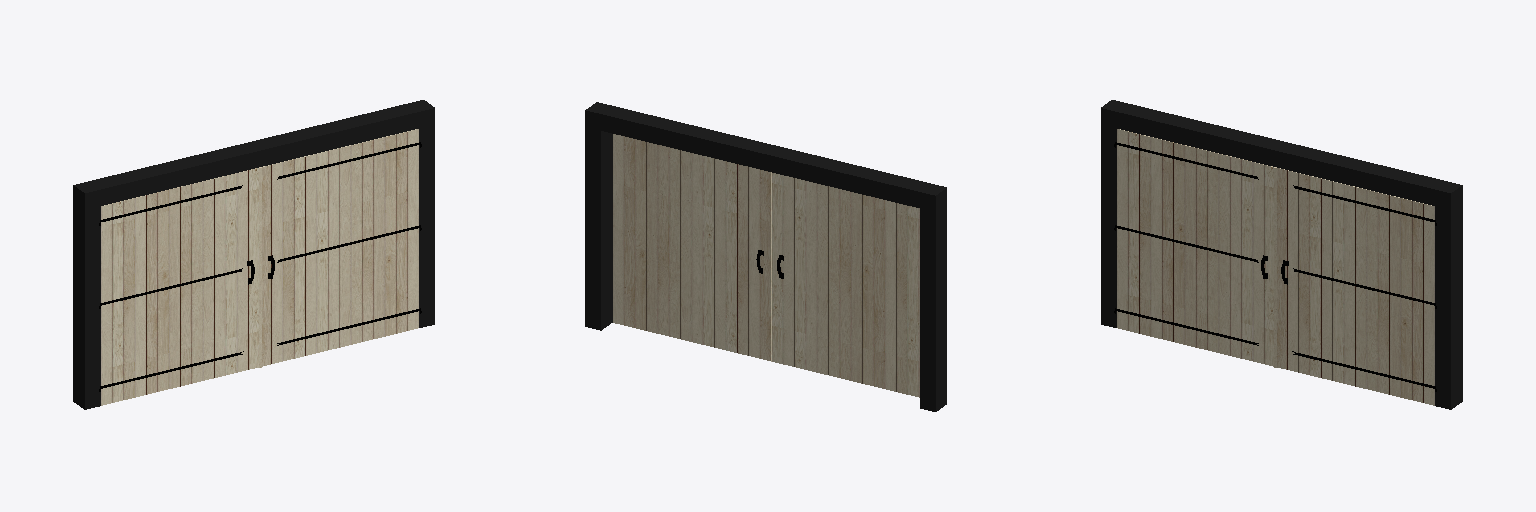
3 views of the same model, side by side, from view 1: azimuth 30°, elevation 25°; view 2: azimuth 150°, elevation 25°; view 3: azimuth 330°, elevation 25° (orthographic).
Visible parts, largest first — view 1: sweethome3d_opening_on_hinge_1_right-door_Cube.008, sweethome3d_opening_on_hinge_2_left-door_Cube.001, frame_Cube, sweethome3d_opening_on_hinge_1_large_hinges_Cube.009, sweethome3d_opening_on_hinge_2_large-hinges_Cube.007; view 2: sweethome3d_opening_on_hinge_1_right-door_Cube.008, sweethome3d_opening_on_hinge_2_left-door_Cube.001, frame_Cube; view 3: sweethome3d_opening_on_hinge_1_right-door_Cube.008, sweethome3d_opening_on_hinge_2_left-door_Cube.001, frame_Cube, sweethome3d_opening_on_hinge_1_large_hinges_Cube.009, sweethome3d_opening_on_hinge_2_large-hinges_Cube.007.
Boxes of the visible parts, x1,y1,x2,y2 form: sweethome3d_opening_on_hinge_1_right-door_Cube.008: [259, 129, 418, 367]; sweethome3d_opening_on_hinge_2_left-door_Cube.001: [101, 167, 259, 405]; frame_Cube: [73, 100, 434, 409]; sweethome3d_opening_on_hinge_1_large_hinges_Cube.009: [277, 142, 420, 345]; sweethome3d_opening_on_hinge_2_large-hinges_Cube.007: [100, 185, 243, 389]; sweethome3d_opening_on_hinge_1_right-door_Cube.008: [613, 134, 771, 361]; sweethome3d_opening_on_hinge_2_left-door_Cube.001: [772, 173, 919, 397]; frame_Cube: [585, 102, 946, 411]; sweethome3d_opening_on_hinge_1_right-door_Cube.008: [1274, 167, 1434, 405]; sweethome3d_opening_on_hinge_2_left-door_Cube.001: [1117, 129, 1273, 366]; frame_Cube: [1101, 100, 1462, 409]; sweethome3d_opening_on_hinge_1_large_hinges_Cube.009: [1292, 185, 1435, 389]; sweethome3d_opening_on_hinge_2_large-hinges_Cube.007: [1115, 142, 1258, 345].
Size of the model in its own units: 441 by 261 by 32.1.
4 materials, 1 textured.